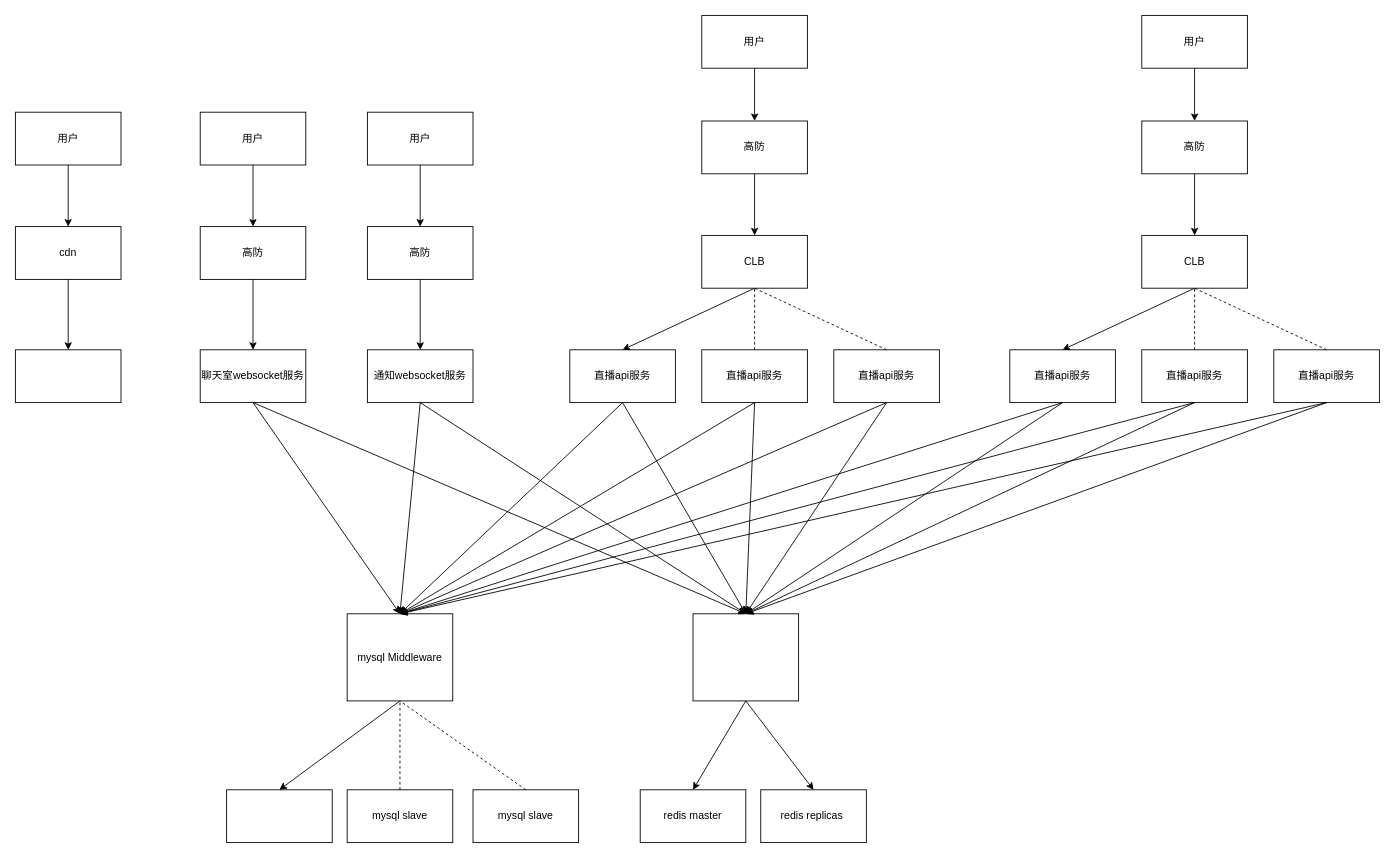
Some shapes in this 1395 by 858 pixel diagram are drawn without their labels. Each missing label, with the centre of its shape:
mysql master: the point at 279,816
proxy: the point at 745,657
web服务: the point at 68,376
